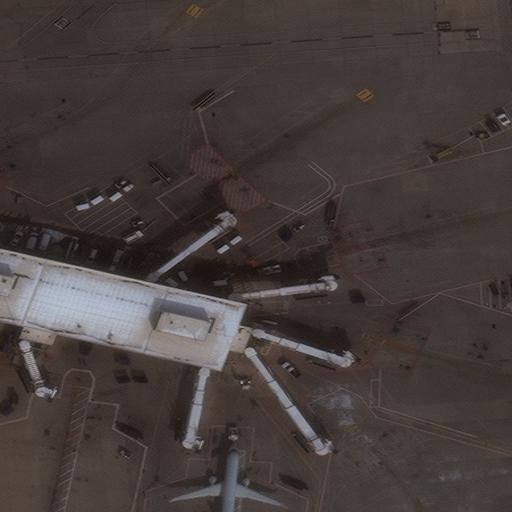Medium Civil Transport: (170, 441, 287, 512)
